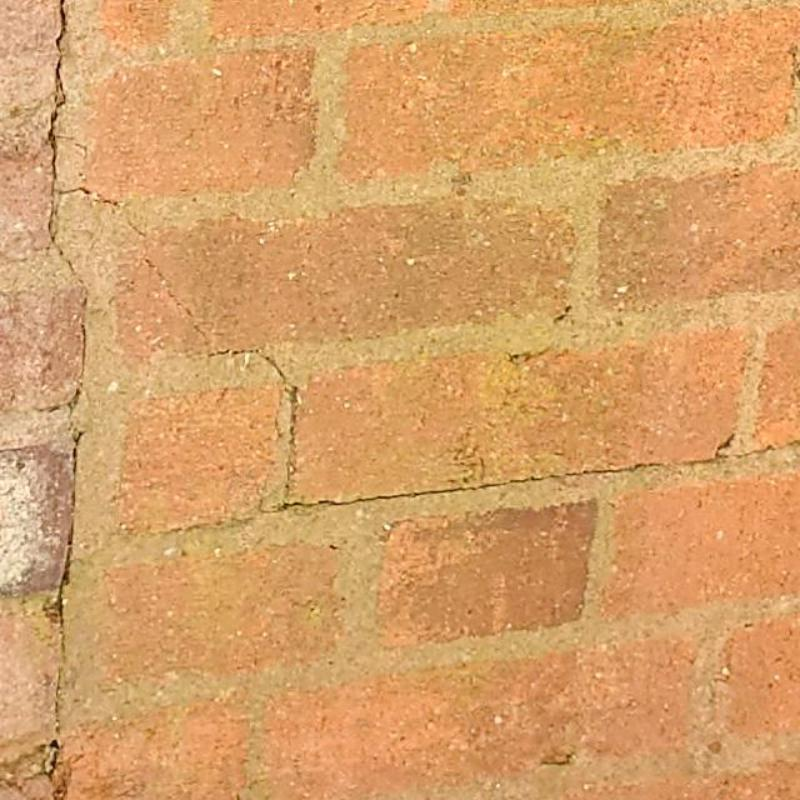pothole: (259, 386, 799, 514), (0, 662, 66, 792), (58, 429, 87, 660), (144, 256, 207, 341), (46, 200, 89, 307), (46, 2, 69, 196), (208, 349, 287, 385), (65, 325, 87, 417), (124, 204, 150, 256), (59, 186, 125, 206)
